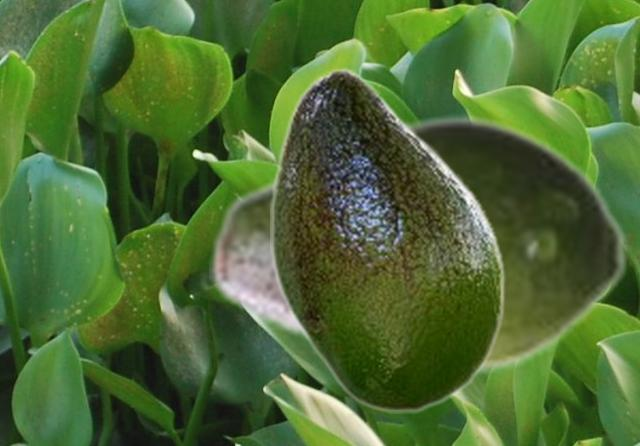avocado: (209, 113, 629, 377), (270, 67, 505, 412)
